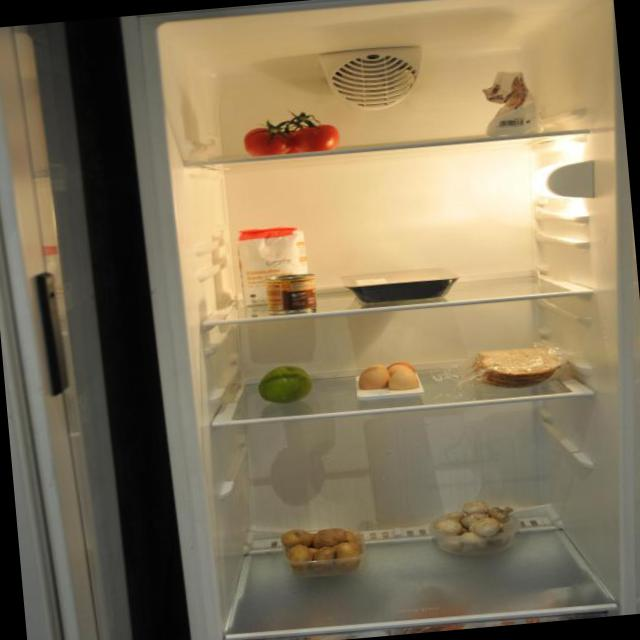Champiñones: (430, 495, 520, 559)
Huevos: (356, 355, 427, 397)
Manzana: (251, 360, 318, 407)
Patata: (276, 519, 370, 578)
Tomate: (244, 116, 347, 158)
bread: (471, 342, 570, 392)
corn: (261, 270, 317, 313)
flour: (480, 66, 547, 140)
sugar: (244, 224, 310, 304)
